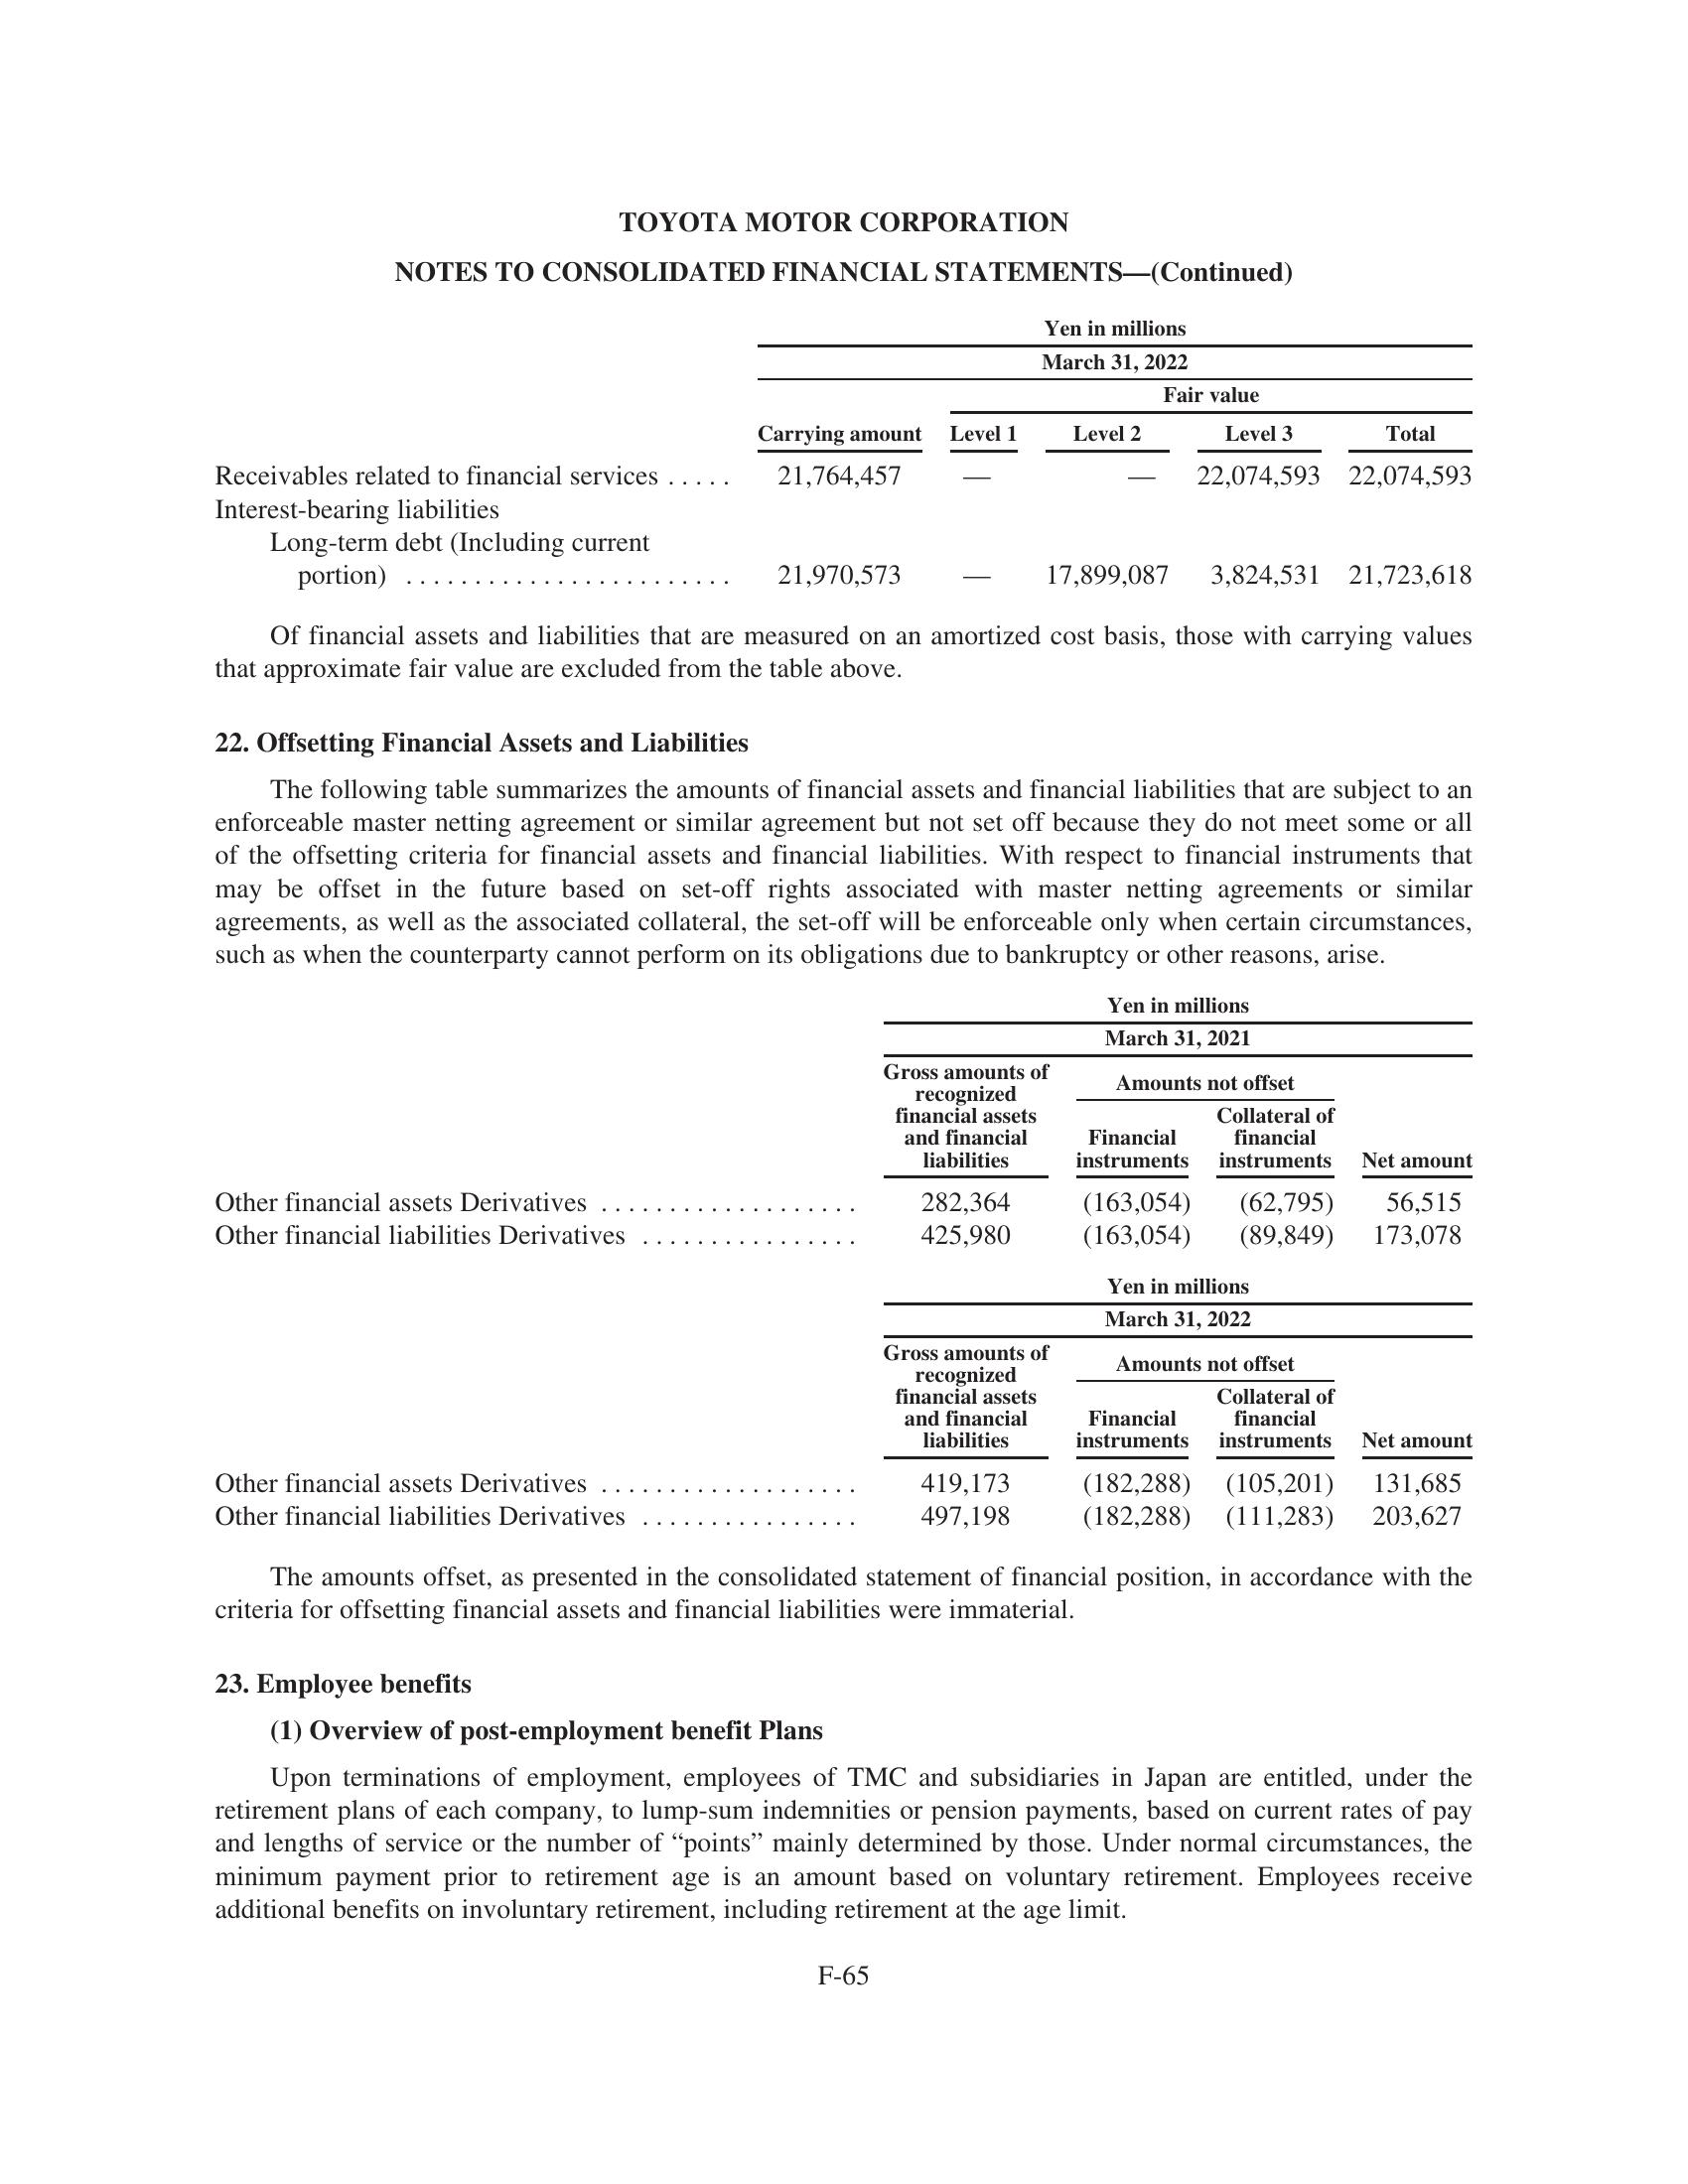Footer: (0, 1959, 1688, 2184)
Header: (0, 0, 1688, 191)
Table: (142, 301, 1521, 601), (188, 975, 1525, 1248), (197, 1269, 1518, 1533)
